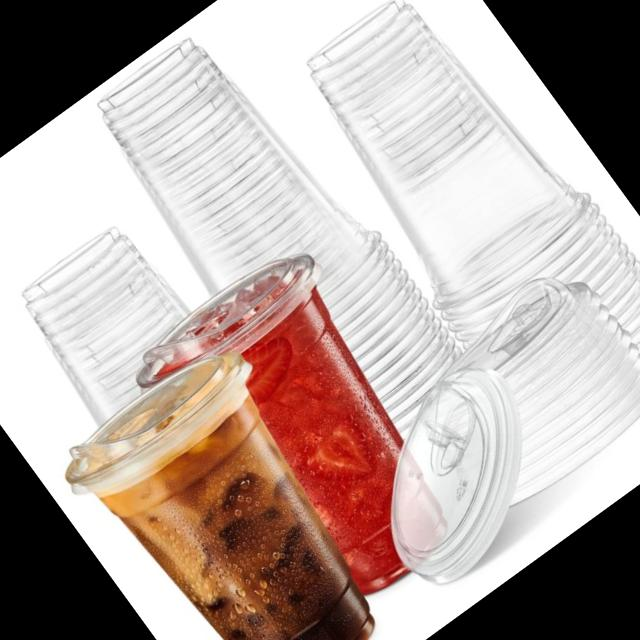GelasPlastik: (73, 12, 480, 480), (120, 232, 498, 636), (264, 0, 614, 348), (48, 328, 426, 640), (0, 201, 220, 433)
